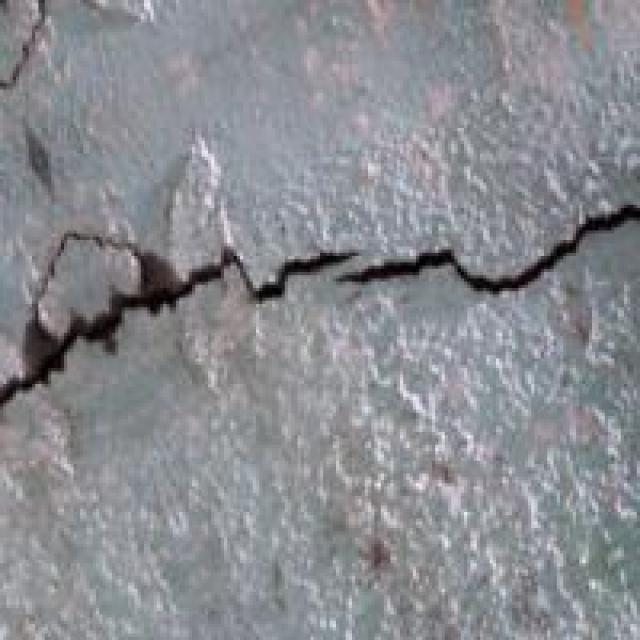Crack: (0, 163, 637, 432)
